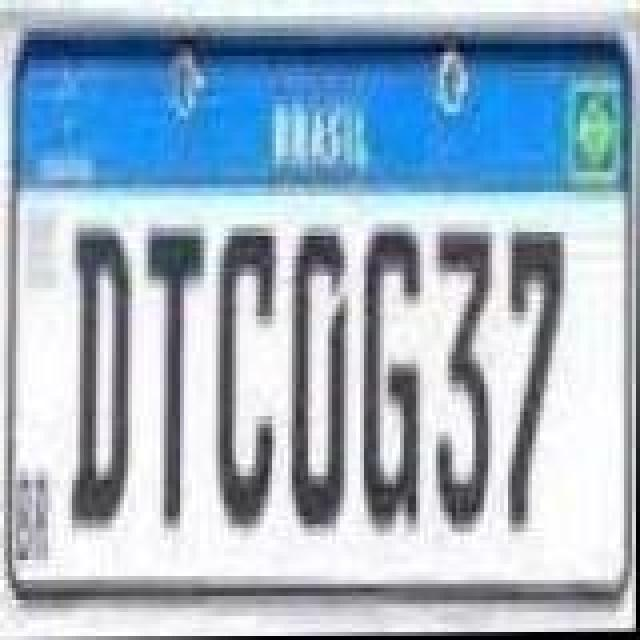3: (432, 218, 492, 538)
7: (508, 230, 568, 542)
C: (216, 222, 276, 534)
D: (72, 222, 132, 534), (288, 224, 348, 536)
G: (360, 214, 420, 546)
T: (144, 222, 204, 534)
